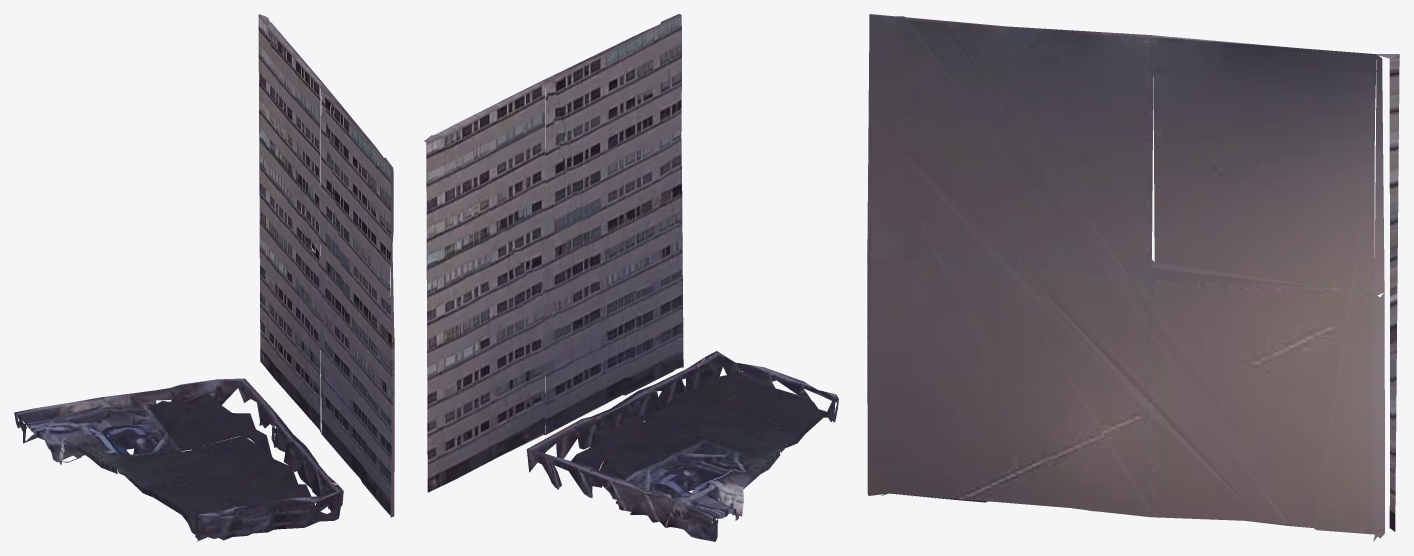
The picture shows the model from 3 angles, left to right: view 1: azimuth 30°, elevation 25°; view 2: azimuth 150°, elevation 25°; view 3: azimuth 270°, elevation 25°; orthographic projection. The views are drawn at different scales.
Visible parts, largest first — view 1: Mesh_0; view 2: Mesh_0; view 3: Mesh_0.
Part boxes in pixels (bbox=[...]): Mesh_0: bbox=[14, 14, 394, 541]; Mesh_0: bbox=[424, 14, 838, 541]; Mesh_0: bbox=[867, 14, 1399, 541].
Size of the model in its own units: 29.48 by 37.31 by 36.93.
2 materials, 2 textured.
